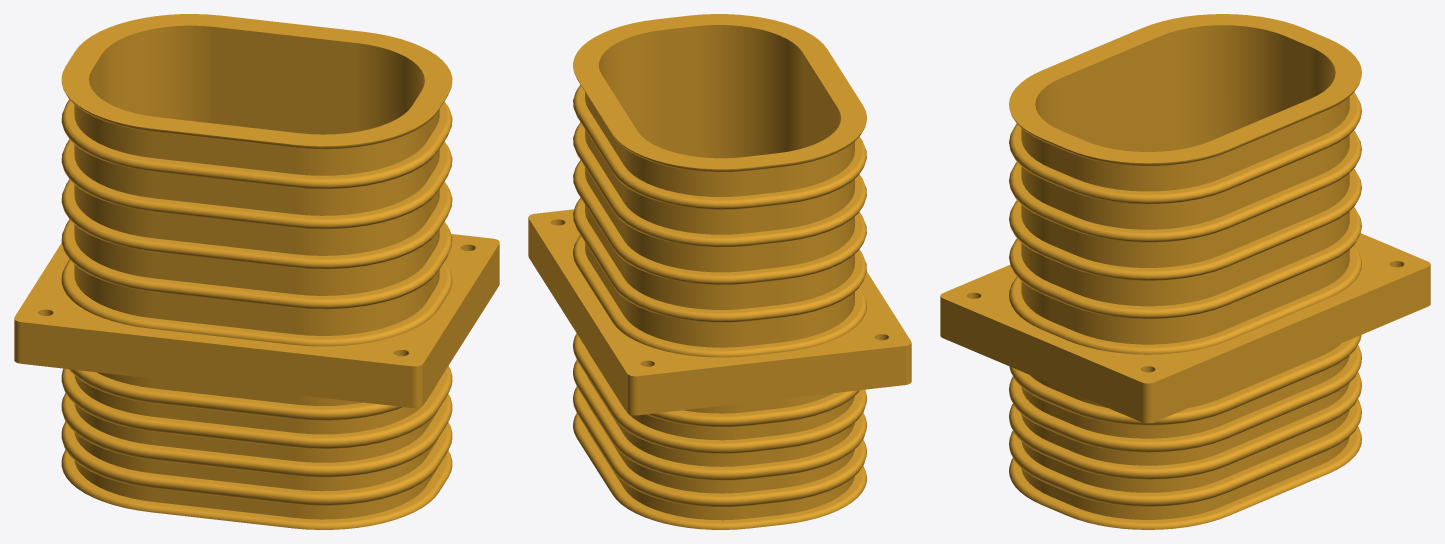
The model's file is 04.2_izolyator-prokhodnoy-ip-10-140x200.glb.
The picture shows the model from 3 angles, left to right: view 1: azimuth 30°, elevation 25°; view 2: azimuth 150°, elevation 25°; view 3: azimuth 270°, elevation 25°; orthographic projection. The views are drawn at different scales.
Parts seen in each view (by area): view 1: 04.2_izolyator-prokhodnoy-ip-10-140x200; view 2: 04.2_izolyator-prokhodnoy-ip-10-140x200; view 3: 04.2_izolyator-prokhodnoy-ip-10-140x200.
Part boxes in pixels (x1,y1,x2,y2): 04.2_izolyator-prokhodnoy-ip-10-140x200: (14, 14, 499, 529); 04.2_izolyator-prokhodnoy-ip-10-140x200: (528, 14, 911, 529); 04.2_izolyator-prokhodnoy-ip-10-140x200: (940, 14, 1430, 529).
Size of the model in its own units: 279 by 230 by 279.
